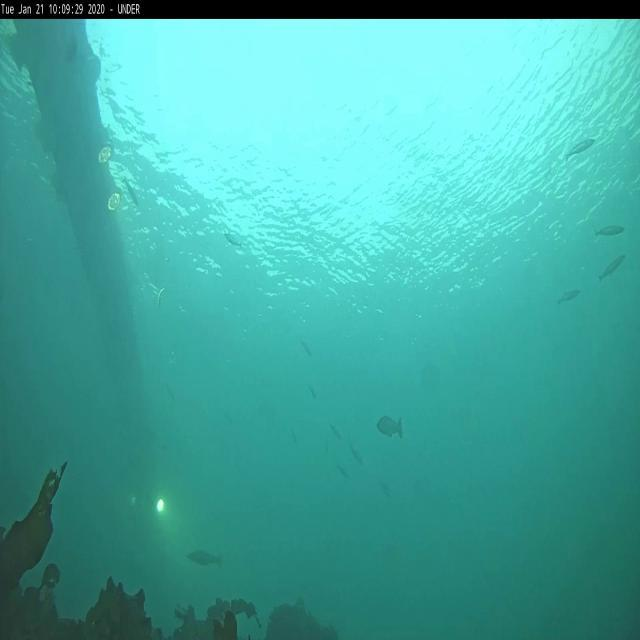fish: (565, 136, 595, 166), (598, 252, 627, 282), (376, 416, 404, 440), (188, 549, 223, 566), (593, 222, 625, 240), (348, 436, 366, 468), (556, 288, 580, 308), (123, 178, 139, 206), (225, 232, 243, 246), (329, 420, 341, 440), (300, 338, 312, 356), (336, 464, 349, 479), (157, 286, 166, 305)
